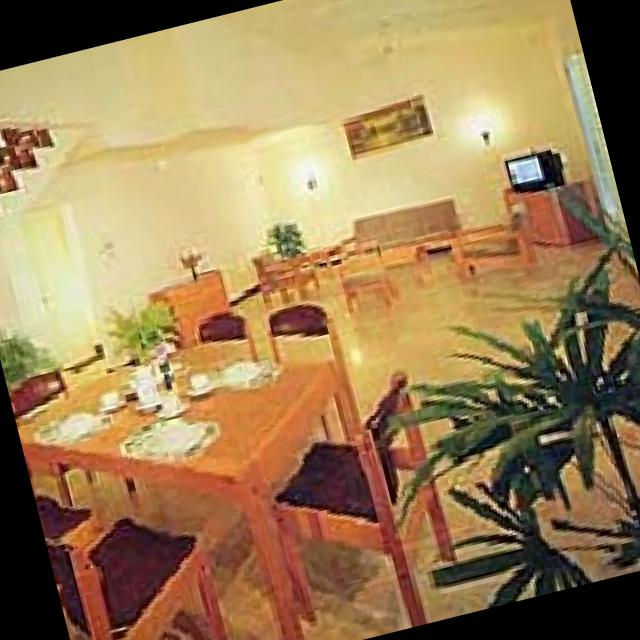2001: (571, 49, 624, 216)
armchair crop: (459, 201, 534, 276), (255, 251, 321, 295)
bouquet: (109, 298, 178, 377)
cabinet door: (144, 265, 234, 336)
candles: (176, 236, 205, 273)
chair: (271, 299, 345, 353), (15, 360, 71, 410), (198, 308, 258, 348)
chair -occluded-: (272, 362, 460, 624), (47, 515, 234, 640), (338, 250, 396, 307)
chair seat: (39, 485, 97, 538)
cup and saucer: (151, 393, 191, 411), (187, 368, 217, 388), (101, 384, 127, 407)
door bars: (10, 208, 108, 350)
lamp crop: (299, 163, 326, 190), (475, 110, 494, 143)
painting crop: (344, 91, 440, 159)
place mat: (123, 414, 224, 456), (197, 355, 286, 384), (37, 414, 117, 439)
plant -x: (387, 198, 640, 597), (0, 334, 59, 381), (263, 222, 306, 251)
plate food: (150, 415, 202, 447), (220, 358, 268, 381), (65, 410, 98, 429)
sofa bed: (343, 191, 476, 258)
stairs: (0, 119, 87, 244)
table -X: (23, 355, 360, 640)
television: (502, 174, 601, 237)
television cabinet: (506, 142, 570, 189)
